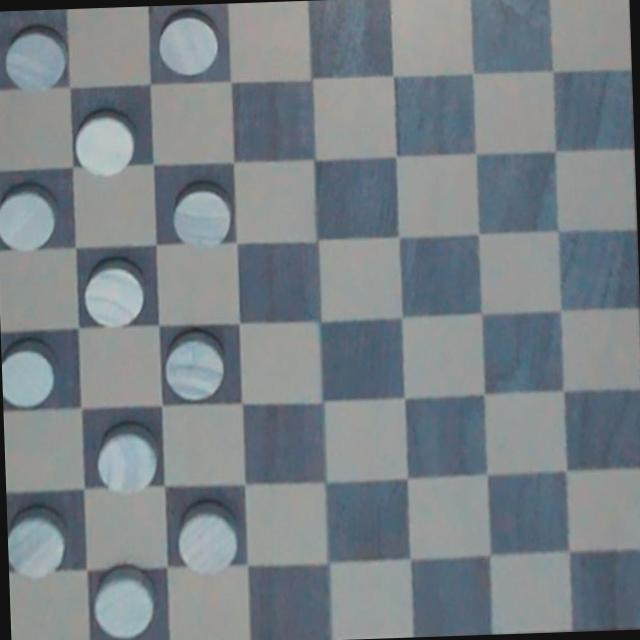BOARD: (0, 0, 640, 640)
white: (88, 554, 161, 640), (85, 421, 164, 498), (173, 497, 248, 577), (0, 21, 69, 103), (161, 328, 228, 408), (0, 332, 66, 412), (150, 4, 221, 76), (77, 258, 146, 332), (168, 178, 238, 250), (0, 177, 62, 258), (74, 100, 136, 180), (7, 504, 72, 578)
